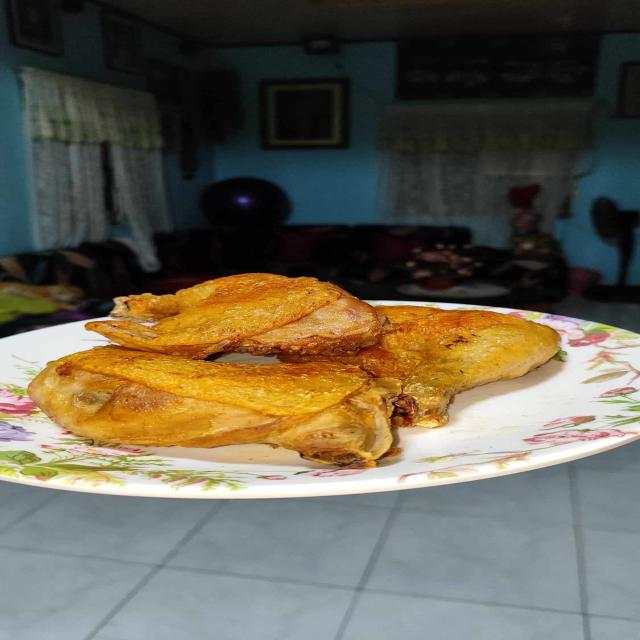Chicken -Fried Chicken-: (20, 334, 398, 474), (313, 302, 572, 422), (82, 274, 384, 358)
